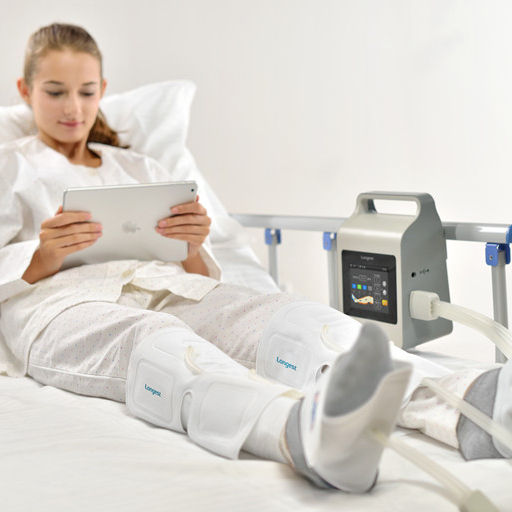bedrail: (229, 213, 512, 364)
hospital_bed: (1, 182, 512, 485)
patient: (1, 24, 512, 483)
sequential_compression: (124, 192, 512, 507)
